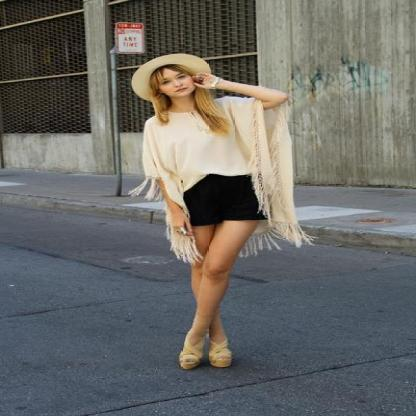hat: (126, 53, 211, 108)
jacket: (125, 96, 312, 263)
shoe: (179, 341, 231, 368)
skirt: (183, 174, 261, 224)
